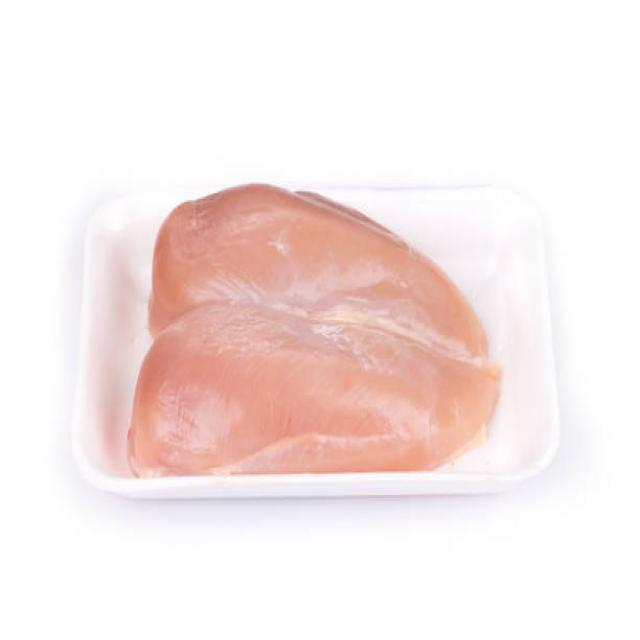Chicken: (151, 168, 494, 466)
